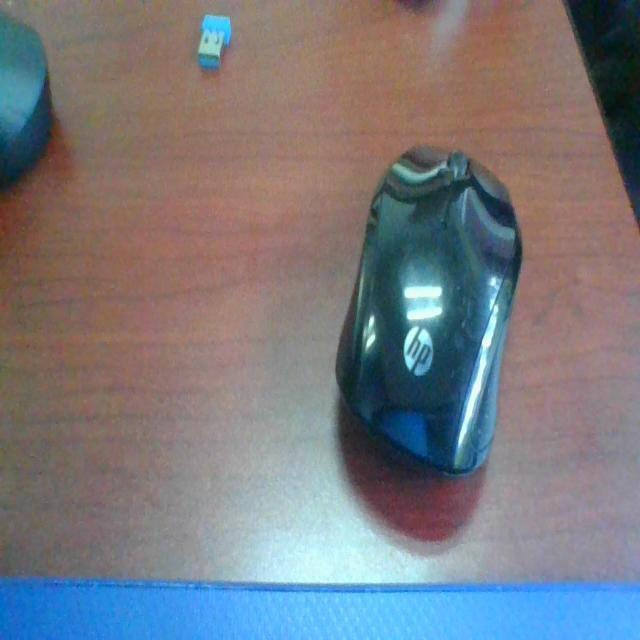Mouse: (329, 142, 538, 490)
